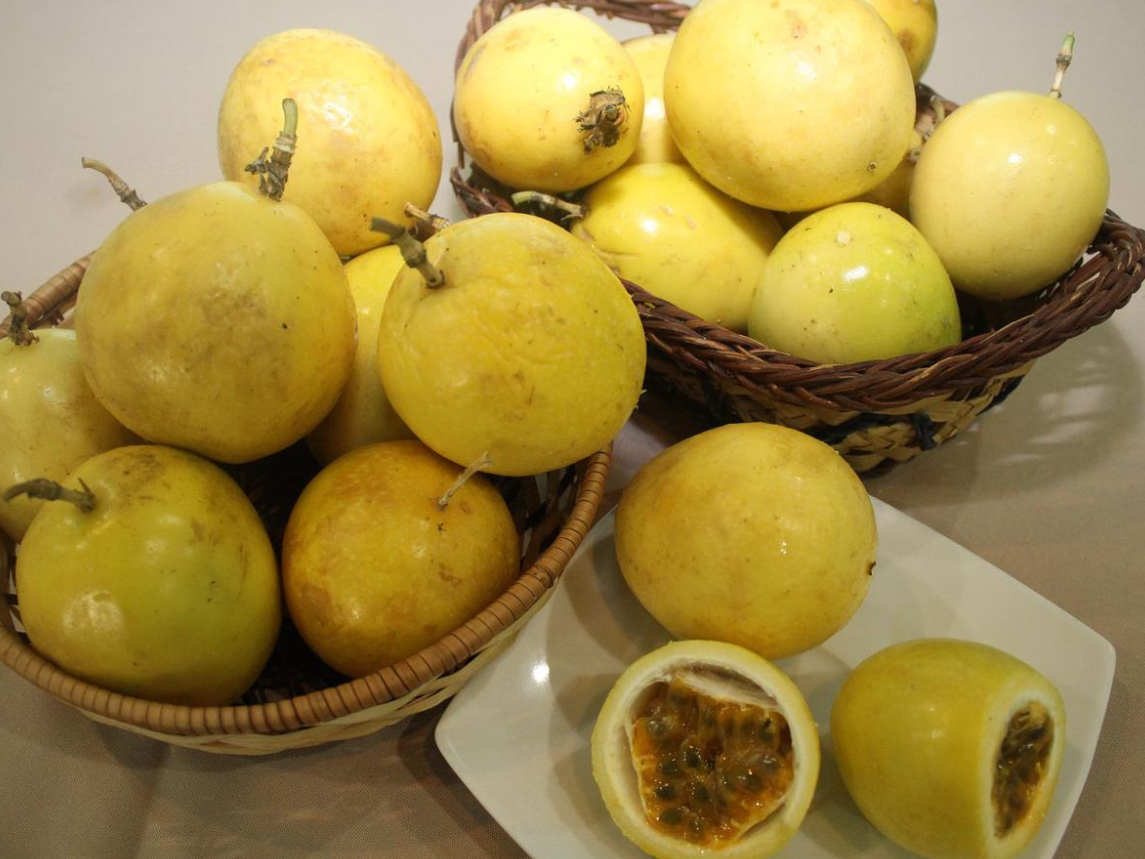maracuya: (364, 208, 658, 481), (71, 177, 349, 460), (8, 441, 282, 721), (602, 417, 889, 667), (278, 436, 523, 690), (662, 1, 923, 216), (207, 20, 445, 254), (909, 84, 1125, 291), (751, 201, 962, 404), (563, 157, 793, 335), (454, 4, 649, 188)
